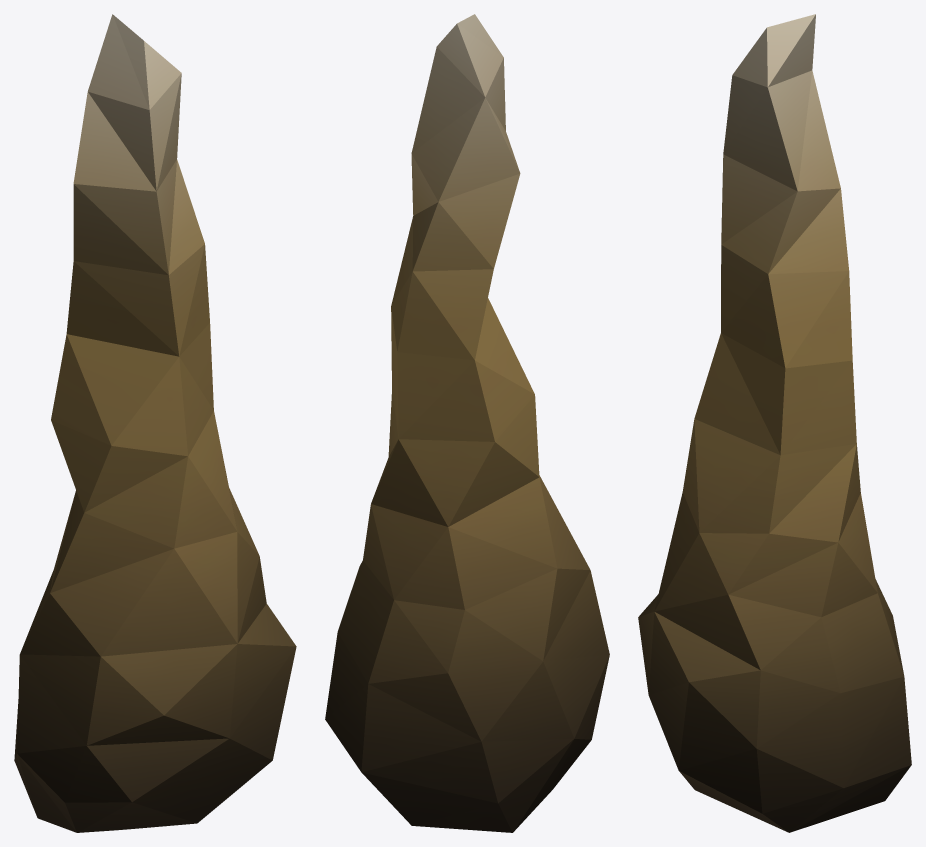
The picture shows the model from 3 angles, left to right: view 1: azimuth 30°, elevation 25°; view 2: azimuth 150°, elevation 25°; view 3: azimuth 270°, elevation 25°; orthographic projection.
Visible parts, largest first — view 1: base_01; view 2: base_01; view 3: base_01.
Part boxes in pixels (left/top/right/bottom): base_01: left=14, top=14, right=296, bottom=832; base_01: left=325, top=14, right=609, bottom=832; base_01: left=638, top=14, right=911, bottom=832.
Size of the model in its own units: 1.07 by 3.34 by 1.03.
